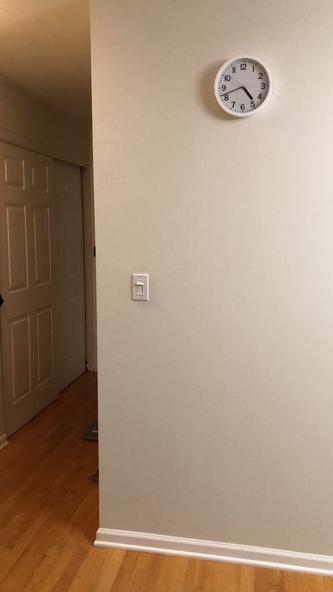switch: (134, 277, 147, 300)
